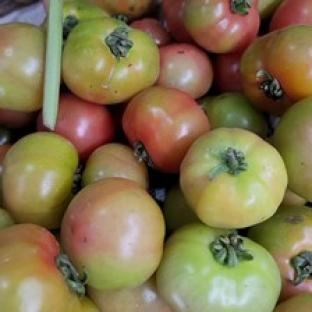Tomato: (60, 177, 164, 289), (156, 223, 281, 311), (180, 127, 286, 228), (62, 17, 160, 104), (0, 223, 89, 311), (123, 85, 210, 174), (2, 133, 77, 229), (240, 24, 311, 115), (248, 205, 311, 300), (53, 92, 115, 164), (272, 97, 311, 200), (0, 23, 45, 111), (156, 42, 213, 98), (81, 143, 149, 189), (88, 275, 172, 311), (202, 92, 267, 137), (162, 182, 199, 233), (212, 52, 243, 93), (130, 17, 172, 45), (0, 108, 37, 129), (0, 144, 12, 207), (273, 293, 311, 311), (282, 187, 307, 206), (0, 208, 15, 229)
